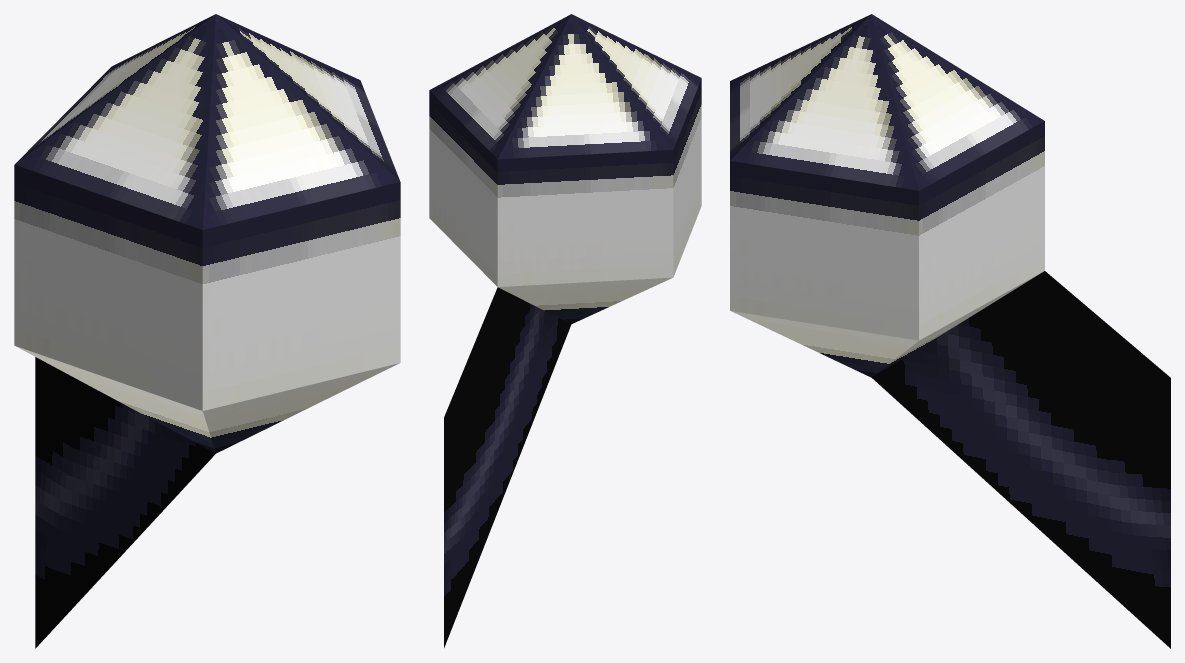
The picture shows the model from 3 angles, left to right: view 1: azimuth 30°, elevation 25°; view 2: azimuth 150°, elevation 25°; view 3: azimuth 270°, elevation 25°; orthographic projection. The views are drawn at different scales.
Visible parts, largest first — view 1: prim229-wallight; view 2: prim229-wallight; view 3: prim229-wallight.
Part boxes in pixels (box(x1,y1,x2,y2)): prim229-wallight: box(14, 14, 400, 648); prim229-wallight: box(429, 14, 701, 647); prim229-wallight: box(730, 14, 1170, 648).
Bounding box in the file's own units: 42 × 89 × 56.
Materials: 2 (2 with a texture image).
